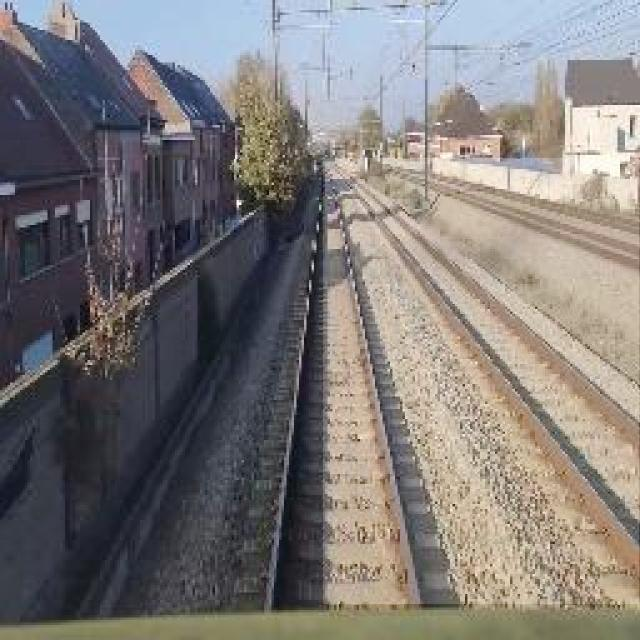rail: (324, 159, 640, 605), (233, 160, 472, 617)
